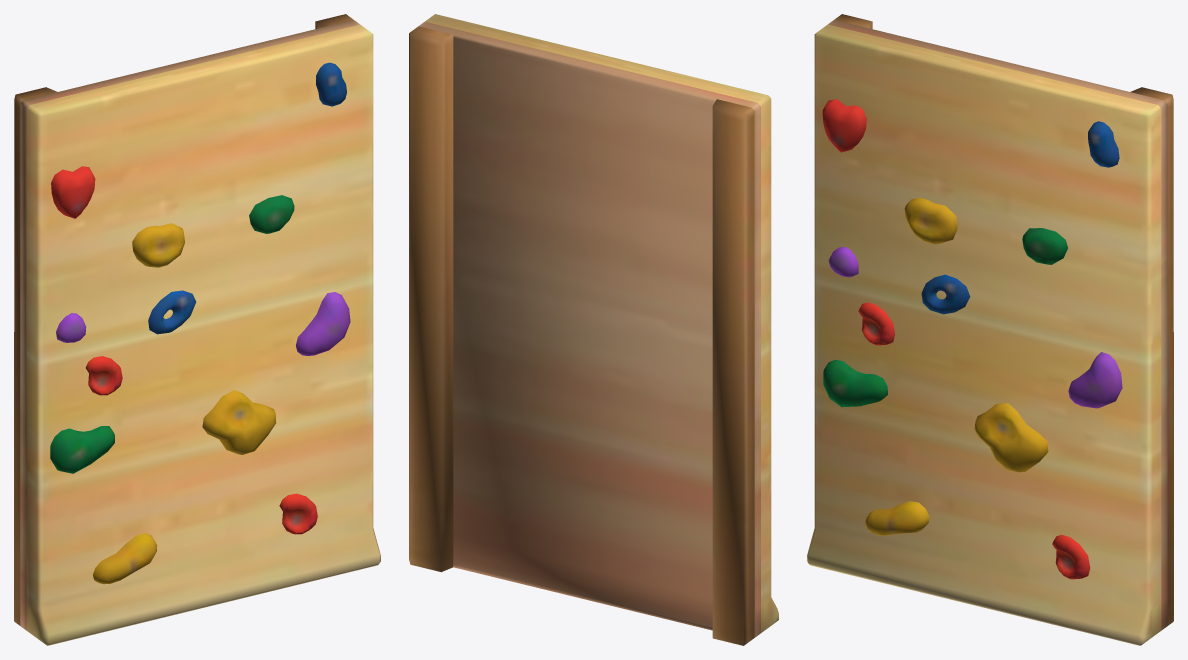
Rendered from climbing-wall.glb.
The picture shows the model from 3 angles, left to right: view 1: azimuth 30°, elevation 25°; view 2: azimuth 150°, elevation 25°; view 3: azimuth 330°, elevation 25°; orthographic projection.
Bounding box in the file's own units: 20 × 30 × 3.64.
Materials: 1 (1 with a texture image).
